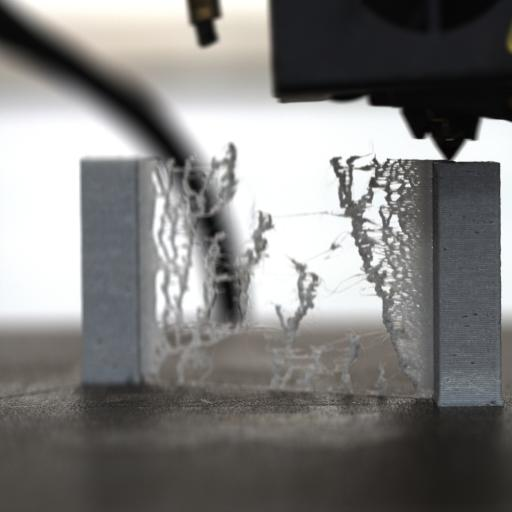stringing: (326, 152, 428, 394), (264, 248, 334, 396), (152, 156, 202, 334)
